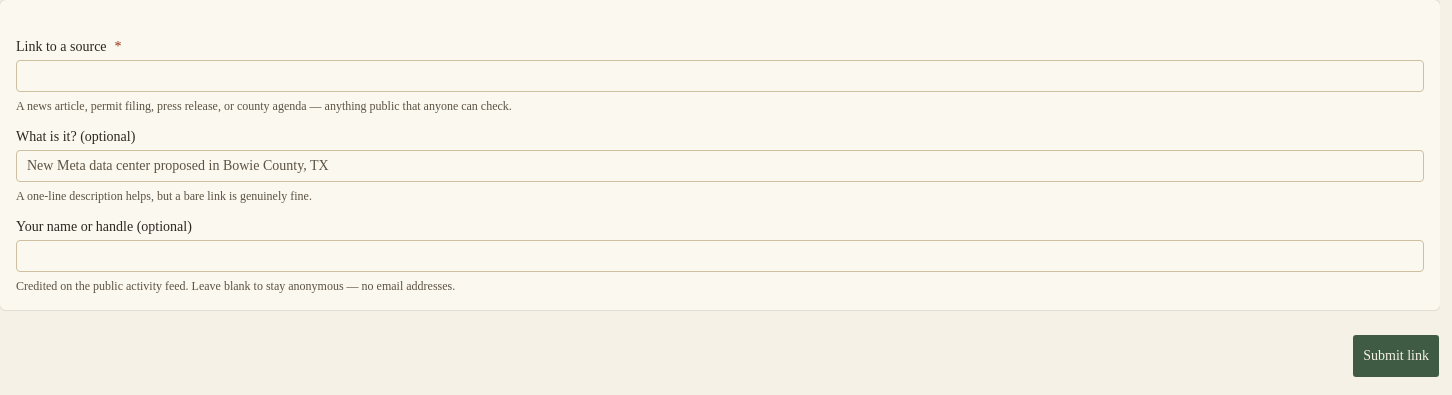
Scenario: ContributeLeadForm — submit outcomes › submits the URL alone (no note) and POSTs the right body to /api/leads
Type "https://example.com/article" into the field labelled "Link to a source *".
click(720, 76); type("https://example.com/article")  # box 16,60 -> 1424,92
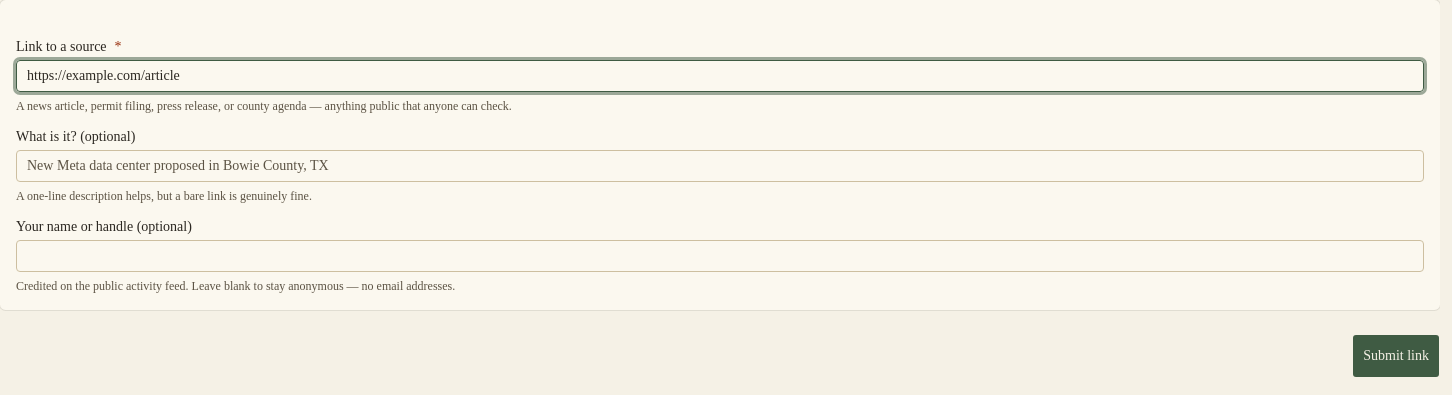
Click the button "Submit link".
click(1396, 356)  # box 1352,334 -> 1440,378
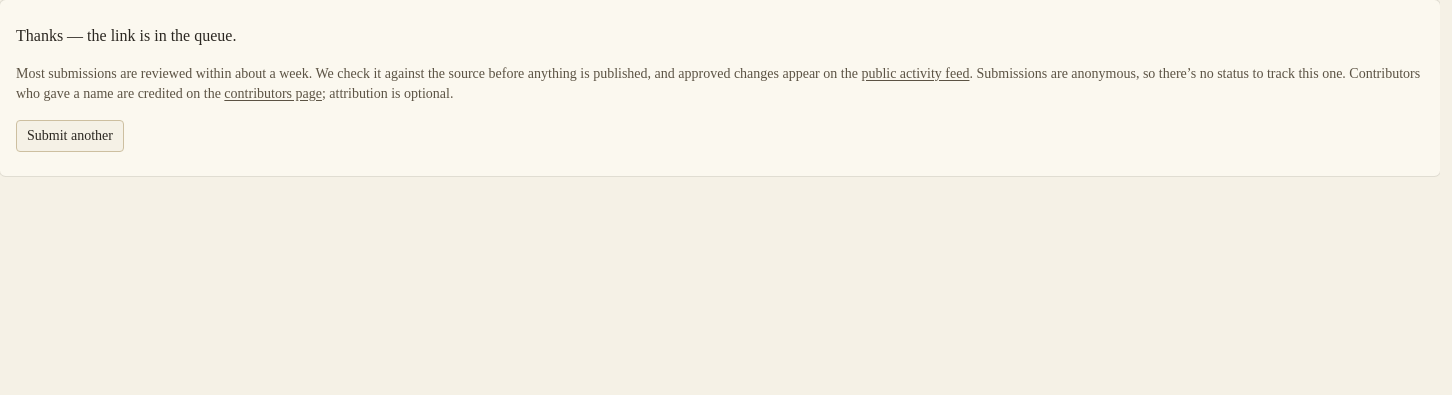
Expected: the text "Thanks — the link is in the queue." is shown, 16,24 -> 236,48
